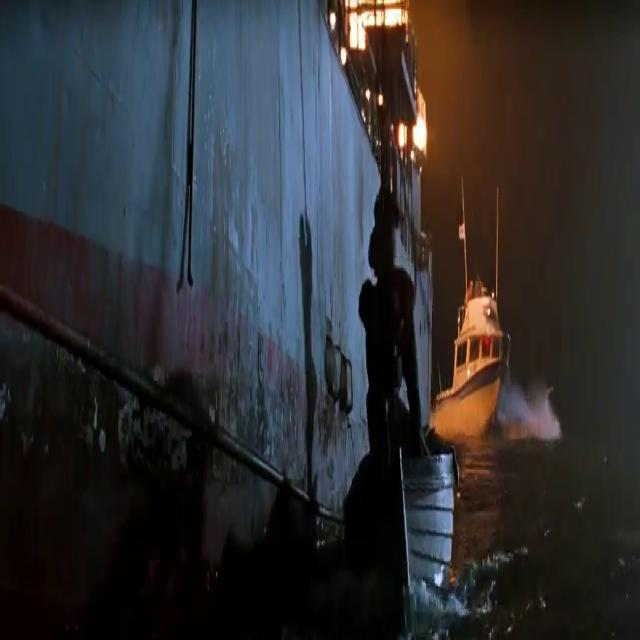Boat: (0, 6, 452, 640), (347, 369, 465, 640), (440, 257, 537, 458)
